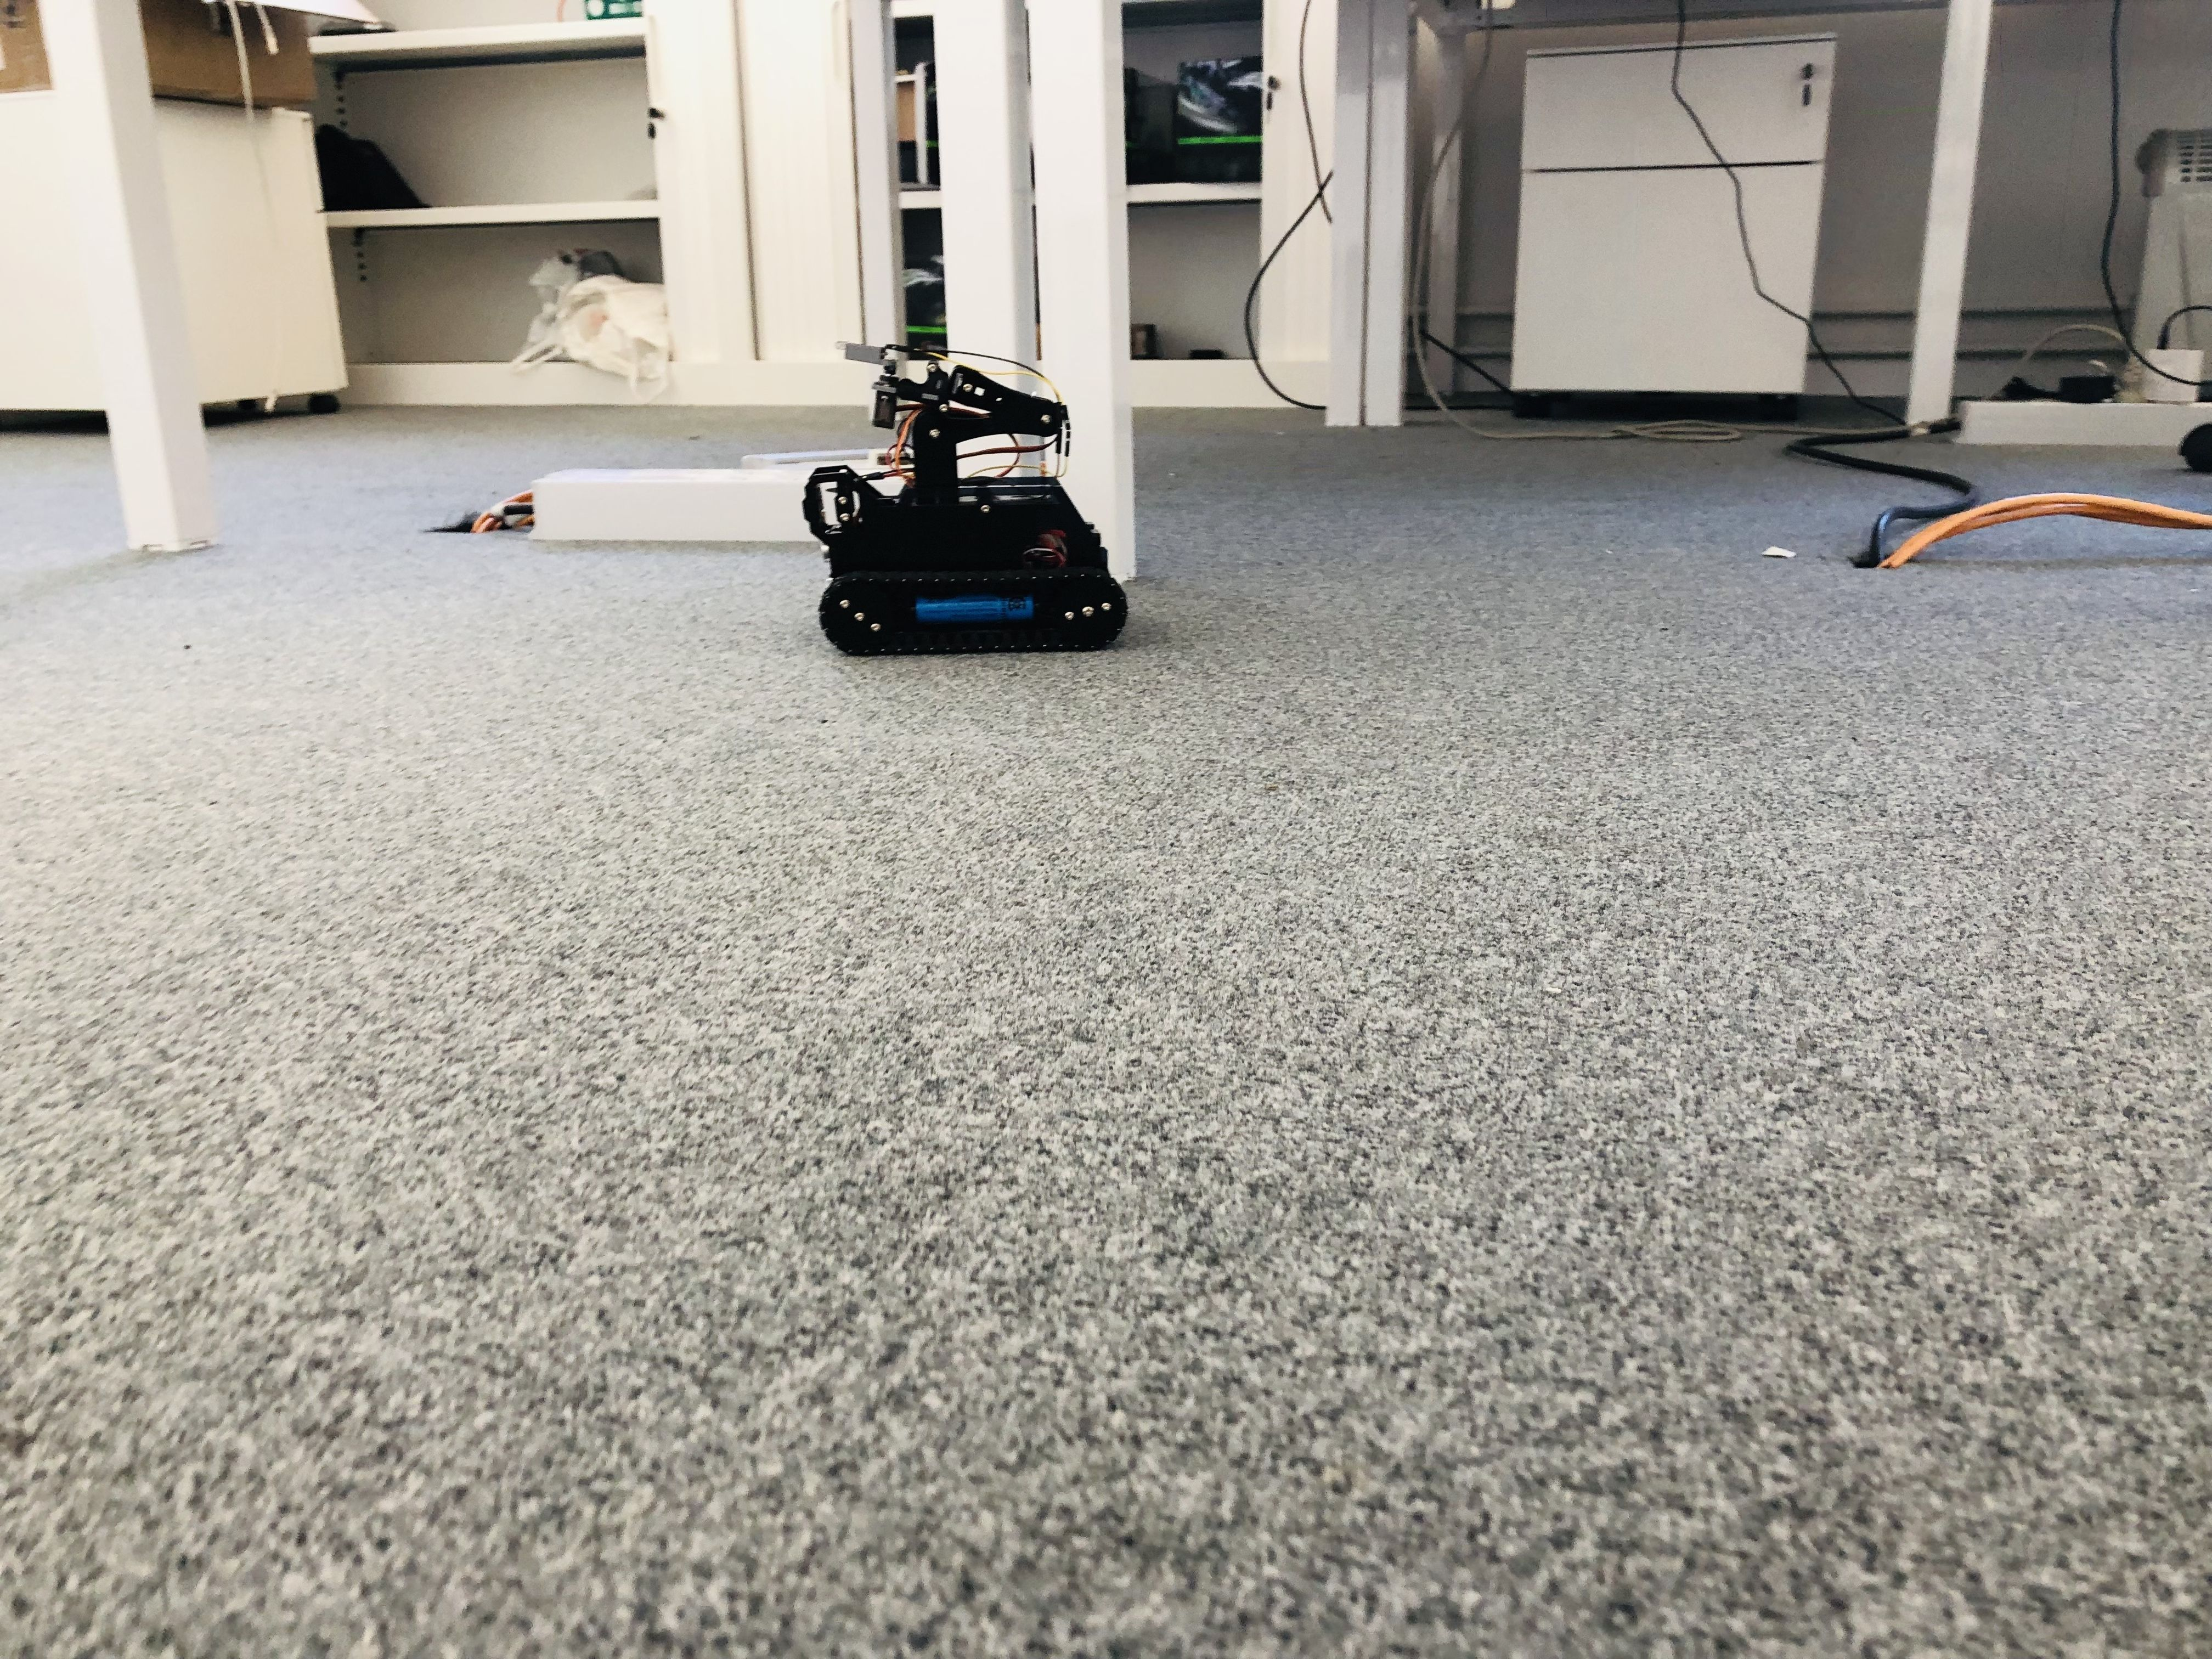rasptank: (805, 340, 1127, 667)
